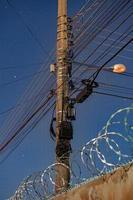wires: (0, 49, 55, 165), (72, 0, 133, 100)
